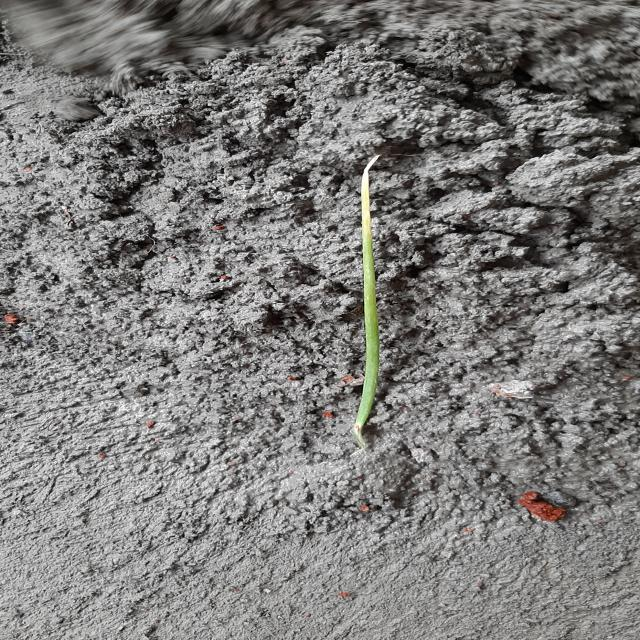onion: (352, 154, 423, 449)
